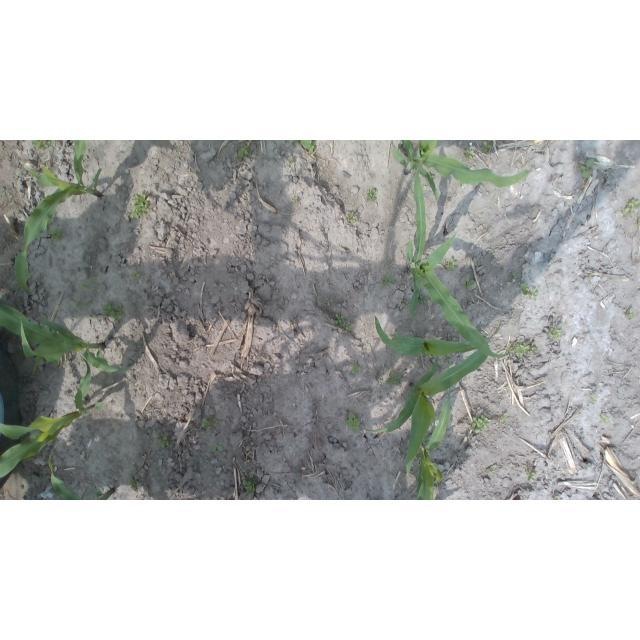Maize: (406, 160, 512, 359), (364, 346, 491, 479), (1, 303, 136, 412), (14, 141, 103, 298), (0, 355, 108, 479), (390, 140, 531, 188), (375, 316, 502, 357), (415, 374, 454, 500), (47, 440, 117, 500)
Weeds: (128, 194, 150, 220), (508, 339, 538, 358), (103, 302, 123, 322), (578, 158, 596, 178), (290, 141, 316, 154), (624, 198, 640, 219), (243, 474, 258, 496), (347, 412, 362, 434), (521, 284, 539, 302), (202, 415, 221, 432), (335, 314, 352, 331), (472, 414, 489, 431), (548, 323, 563, 339), (33, 140, 56, 150), (381, 276, 396, 289), (238, 145, 251, 159), (156, 436, 170, 449), (389, 373, 402, 386), (464, 147, 476, 161), (465, 276, 476, 291), (366, 188, 377, 202), (51, 229, 65, 240), (445, 258, 457, 270), (479, 142, 491, 153), (347, 212, 357, 225), (626, 308, 636, 320), (211, 444, 223, 454), (486, 465, 497, 474), (527, 471, 536, 482), (128, 480, 139, 489), (130, 271, 140, 280), (500, 413, 509, 422), (351, 364, 359, 374), (419, 296, 428, 304), (293, 197, 300, 204), (550, 495, 559, 500), (589, 272, 596, 278), (512, 273, 518, 279), (288, 158, 293, 165), (638, 217, 640, 227)
